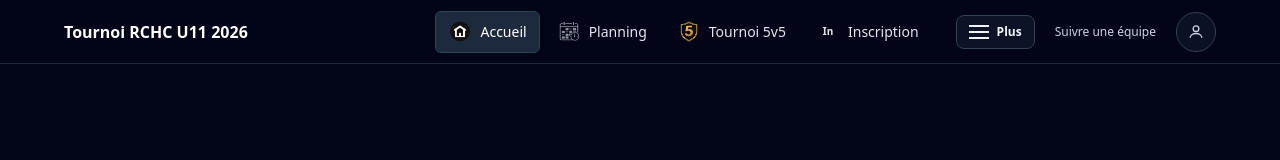
Test: TopBar — sélecteur d'équipe › ouvre le sélecteur d'équipe au clic sur « Suivre une équipe »
This screenshot has width=1280, height=160.
Click the button "Suivre une équipe" at (1105, 32), box [1047,20,1164,44]
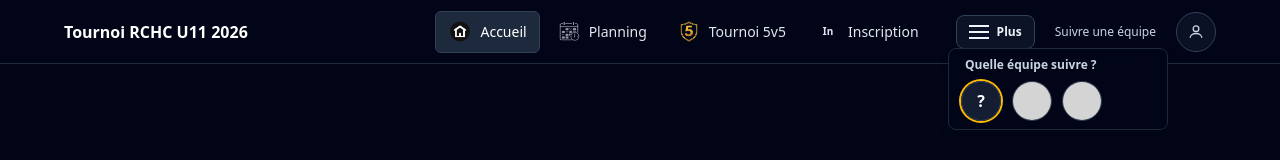
Expected: the text "Quelle équipe suivre ?" is shown, [965,56,1097,72]
